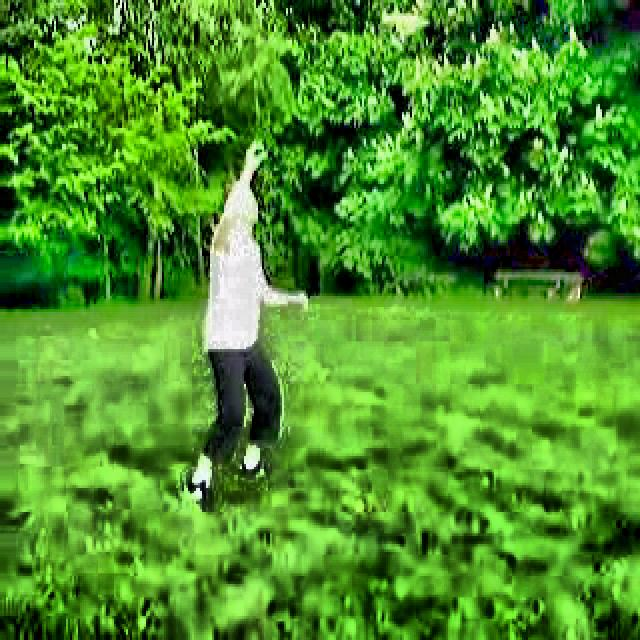T: (185, 148, 276, 518)
